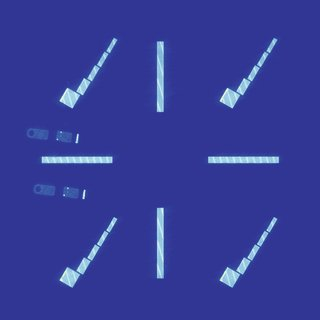overheated: (221, 88, 227, 101), (60, 270, 67, 281), (220, 277, 222, 282)
